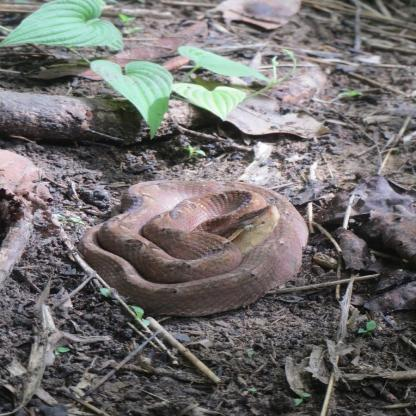Snake: (85, 176, 312, 316)
